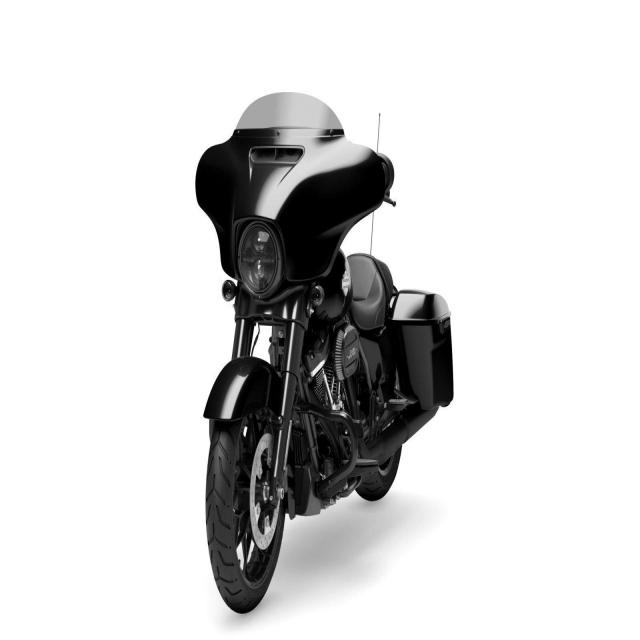Motorcycle: (196, 92, 454, 612)
